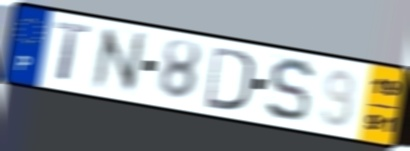8: (155, 38, 203, 104)
9: (320, 67, 361, 130)
D: (203, 44, 255, 114)
N: (89, 25, 147, 95)
S: (264, 56, 317, 124)
T: (54, 18, 93, 85)
